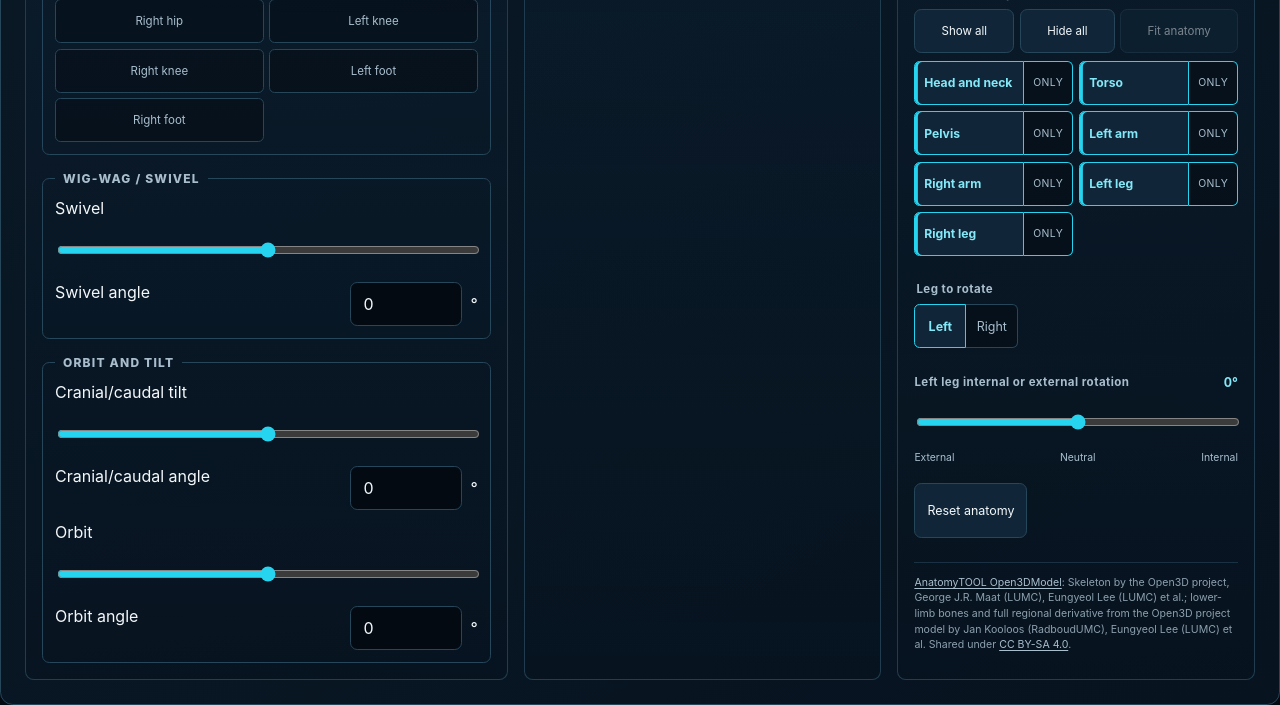
Test: CArmControls › accepts typed exact values and clamps values outside the range
This screenshot has width=1280, height=705.
(page scrolled)
Replace the text in the number field labelled "Orbit angle" with "15": (406, 628) 350,606 -> 462,650
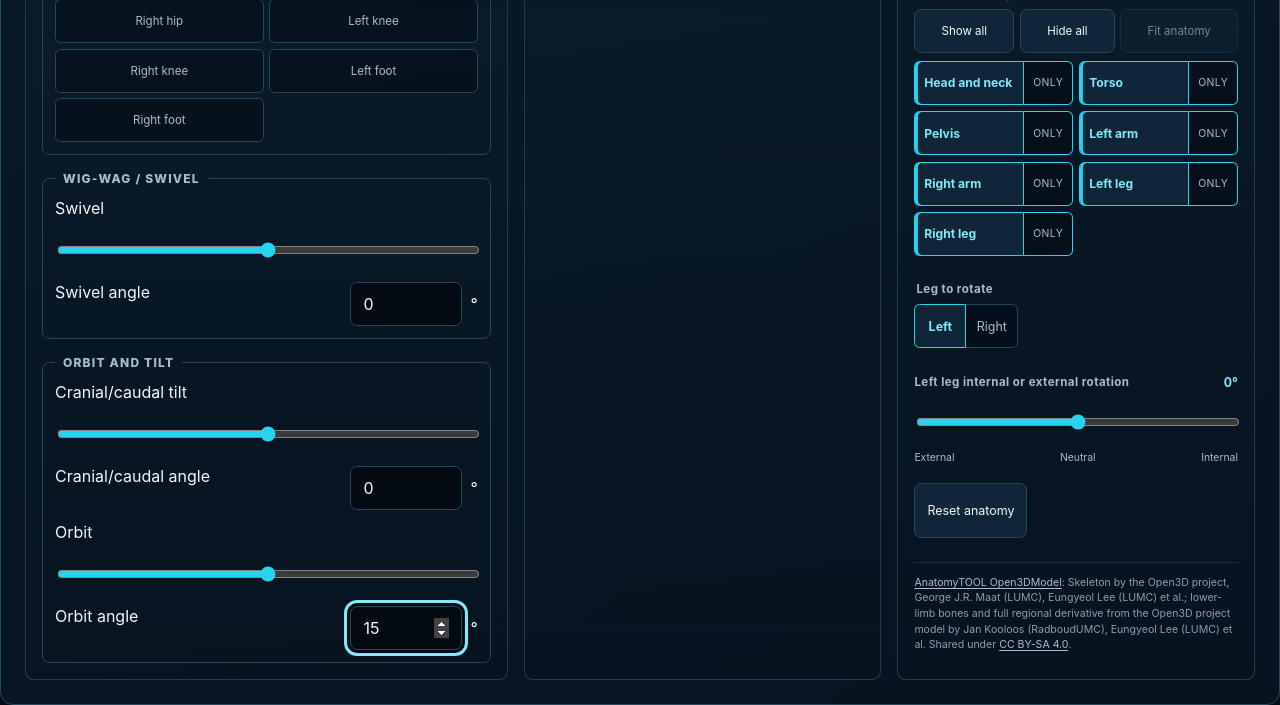
Press Enter
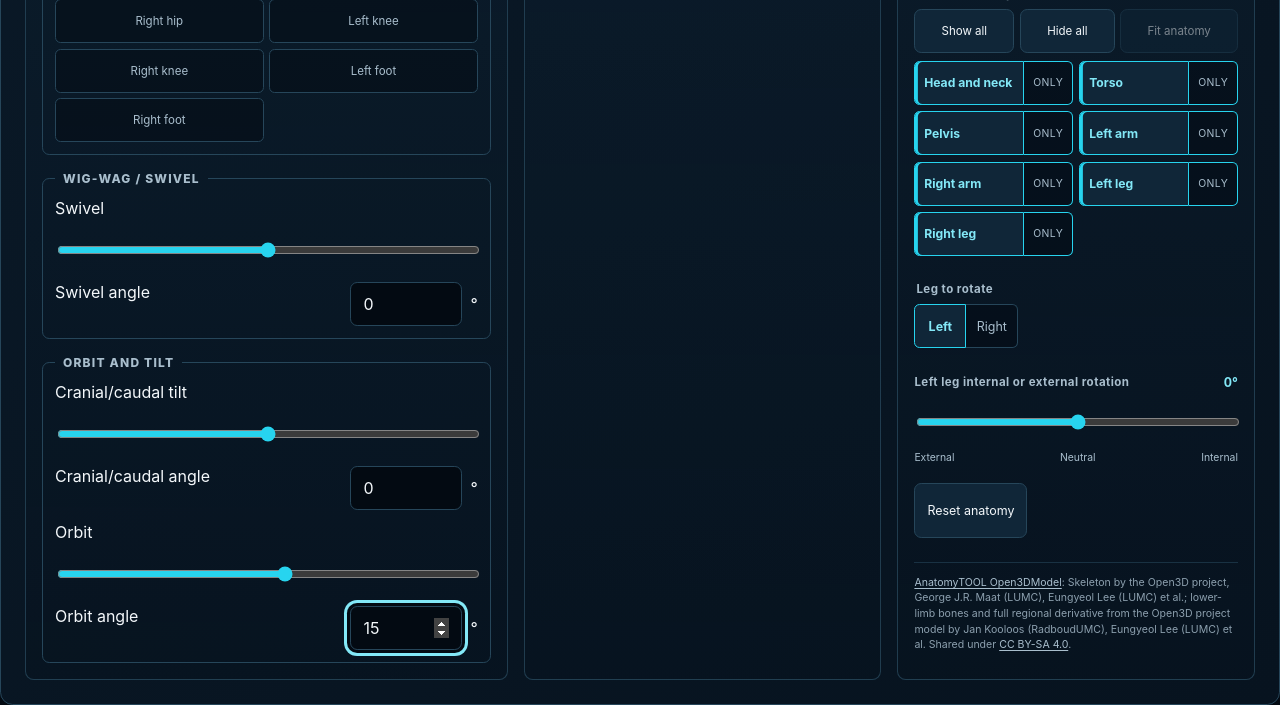
Replace the text in the number field labelled "Orbit angle" with "250": (406, 628) 350,606 -> 462,650
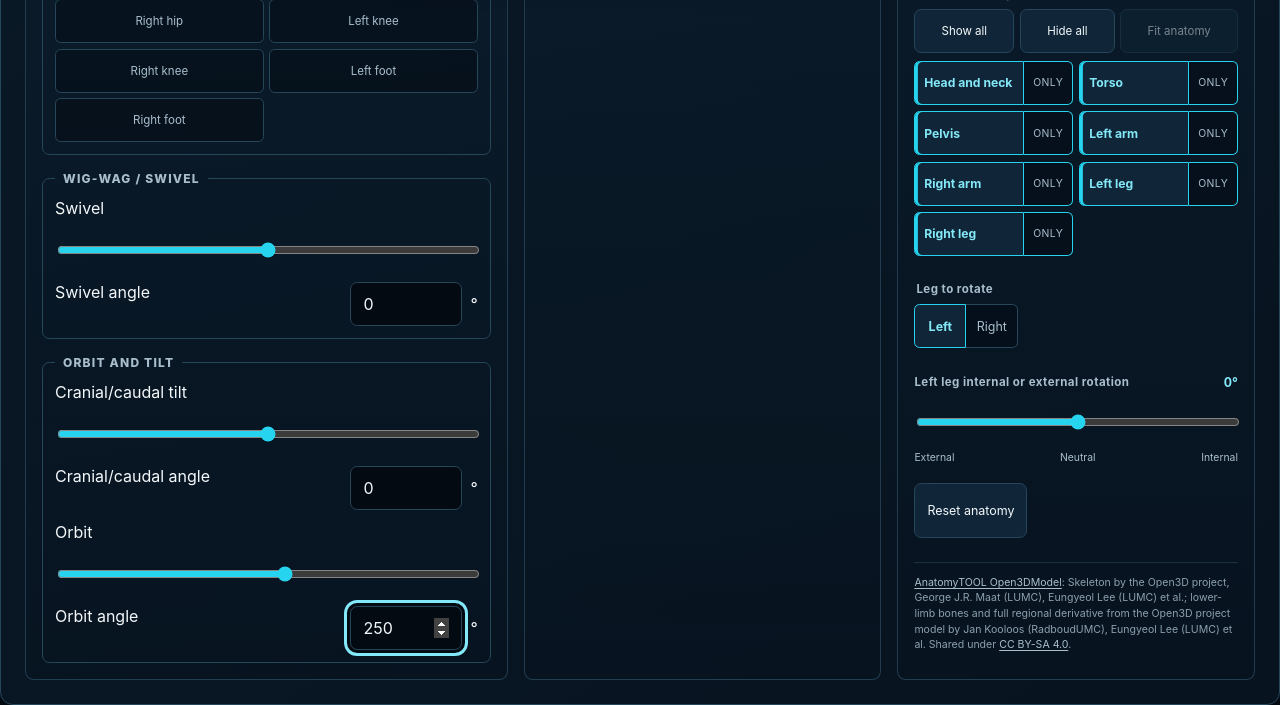
Leave the number field labelled "Orbit angle", box 350,606 -> 462,650
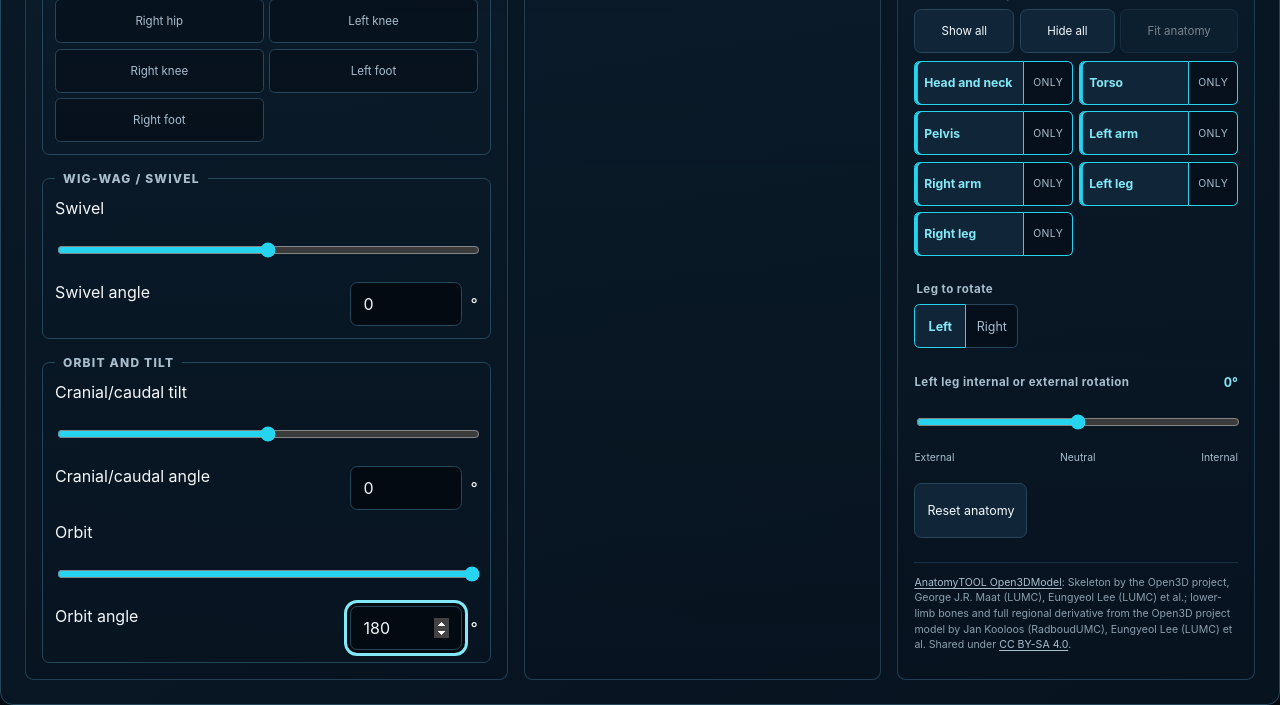
expect the number field labelled "Orbit angle" holds "180": met, box 350,606 -> 462,650
